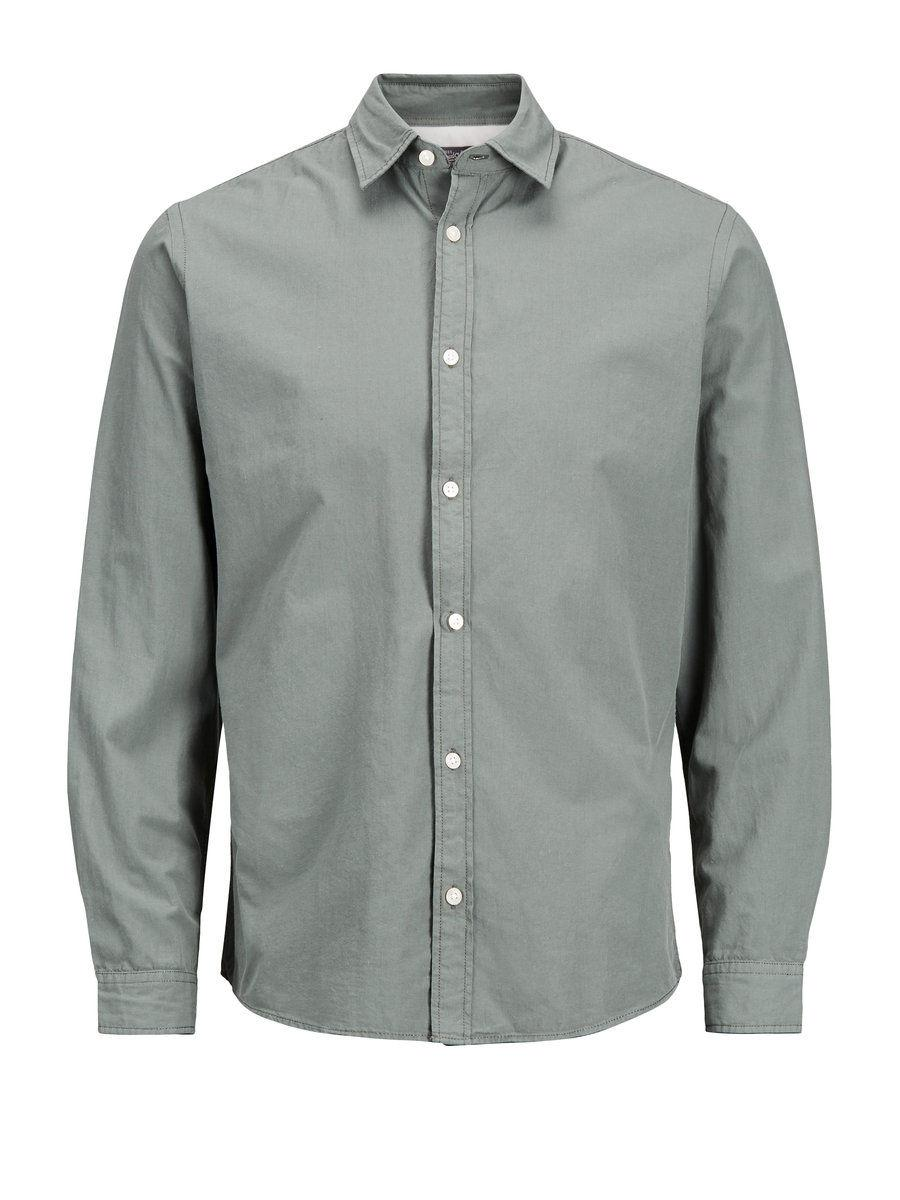teeshirt: (63, 62, 845, 1074)
